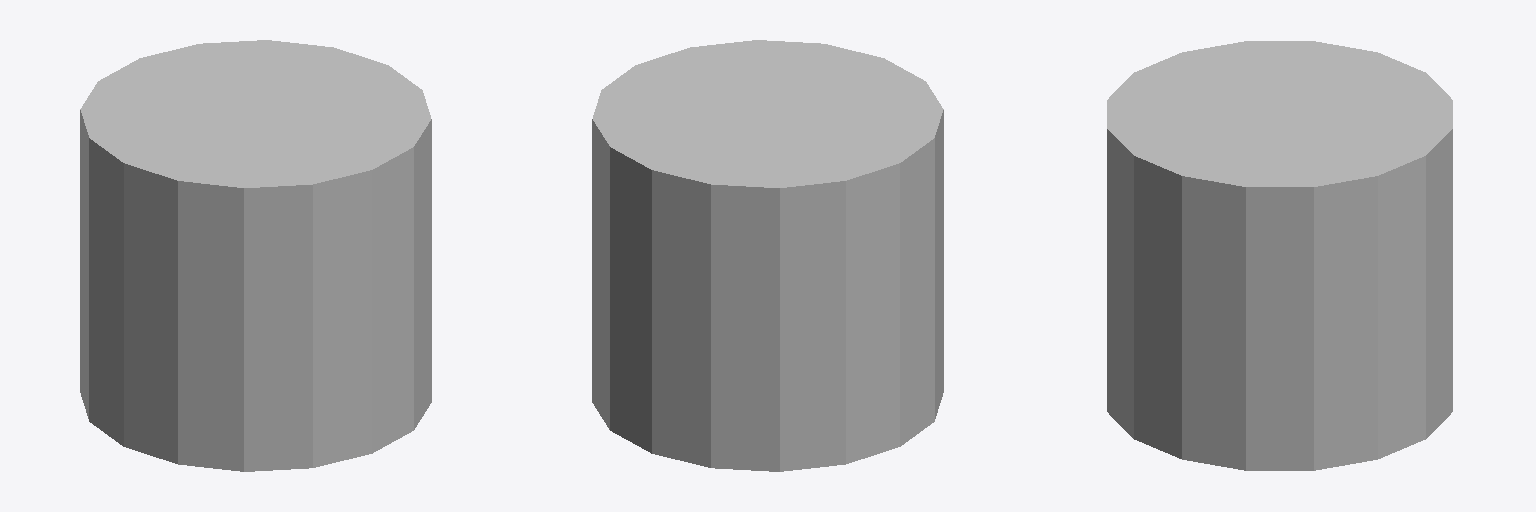
File: Knight_Motor_B_Collider.obj
3 views of the same model, side by side, from view 1: azimuth 30°, elevation 25°; view 2: azimuth 150°, elevation 25°; view 3: azimuth 270°, elevation 25° (orthographic).
Visible parts, largest first — view 1: Knight_Motor_B_Collider; view 2: Knight_Motor_B_Collider; view 3: Knight_Motor_B_Collider.
Part boxes in pixels (x1,y1,x2,y2): Knight_Motor_B_Collider: (80,40,431,471); Knight_Motor_B_Collider: (592,40,943,471); Knight_Motor_B_Collider: (1107,41,1452,470).
Size of the model in its own units: 0.9375 by 0.85 by 0.9375.